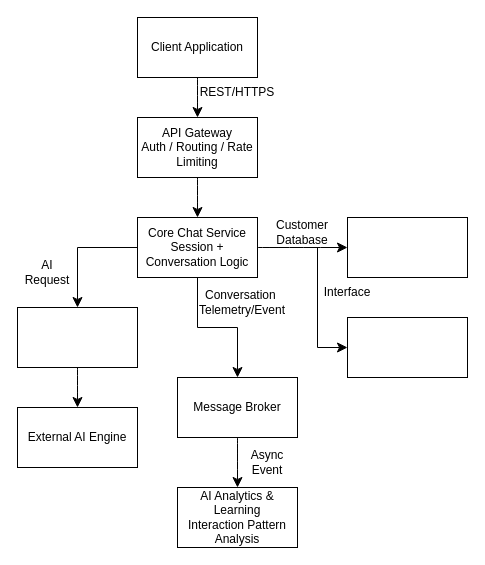
This 485x565 diagram has some shape labels left out. Here are the shapes that lost their labels. From the top down, the centre of each, then its label:
At point 407,247: "Existing".
At point 77,337: "AI Gateway AI Abstraction Layer".
At point 407,347: "Human Agent".
